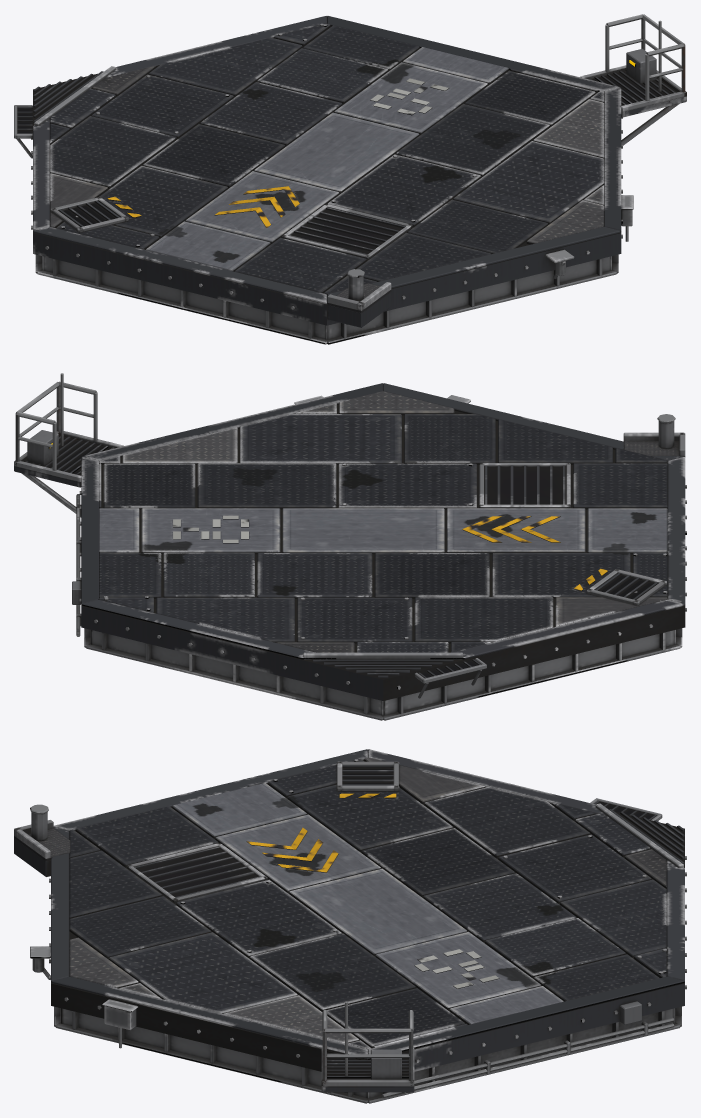
File: nodexeus-set-deck-a.glb
3 views of the same model, one above another, from view 1: azimuth 30°, elevation 25°; view 2: azimuth 150°, elevation 25°; view 3: azimuth 270°, elevation 25° (orthographic). The views are drawn at different scales.
Parts seen in each view (by area): view 1: set-deck-a; view 2: set-deck-a; view 3: set-deck-a.
Boxes of the visible parts, <box> form: set-deck-a: <box>14,14,686,344</box>; set-deck-a: <box>14,373,686,720</box>; set-deck-a: <box>14,749,686,1103</box>.
Size of the model in its own units: 12.78 by 2.15 by 10.92.
1 material, 1 textured.
